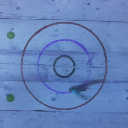Axe Tip: (77, 86, 86, 90)
